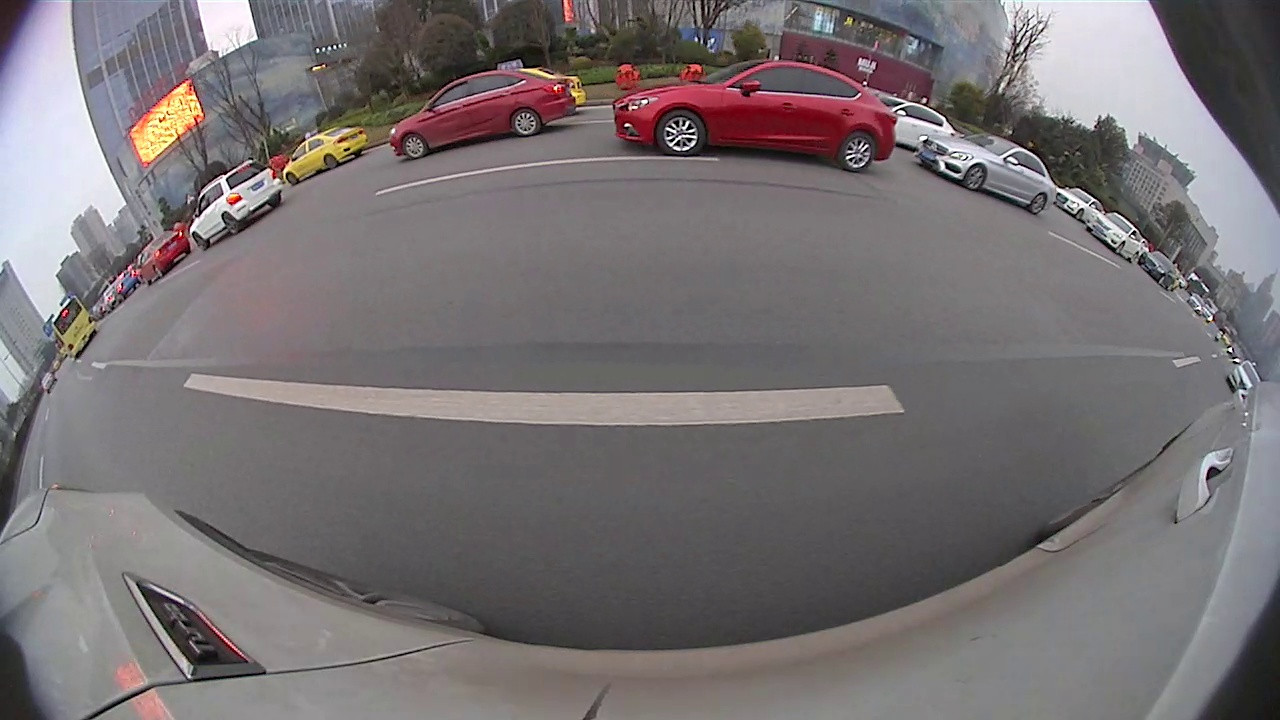bus: (48, 296, 100, 361)
car: (615, 58, 899, 176), (390, 69, 576, 163), (914, 129, 1055, 218), (188, 156, 285, 252), (282, 123, 368, 187), (872, 92, 958, 156), (495, 61, 588, 108), (1083, 207, 1146, 265), (134, 228, 191, 287), (1049, 184, 1105, 226)
front: (654, 107, 709, 159), (961, 163, 987, 196), (399, 133, 425, 161), (189, 232, 211, 253), (283, 173, 300, 188), (1111, 240, 1125, 257), (1074, 211, 1084, 223)
rear: (835, 130, 876, 176), (508, 108, 539, 139), (218, 209, 242, 235), (1029, 193, 1050, 217), (265, 188, 285, 209), (321, 154, 340, 171), (1128, 250, 1140, 267)
